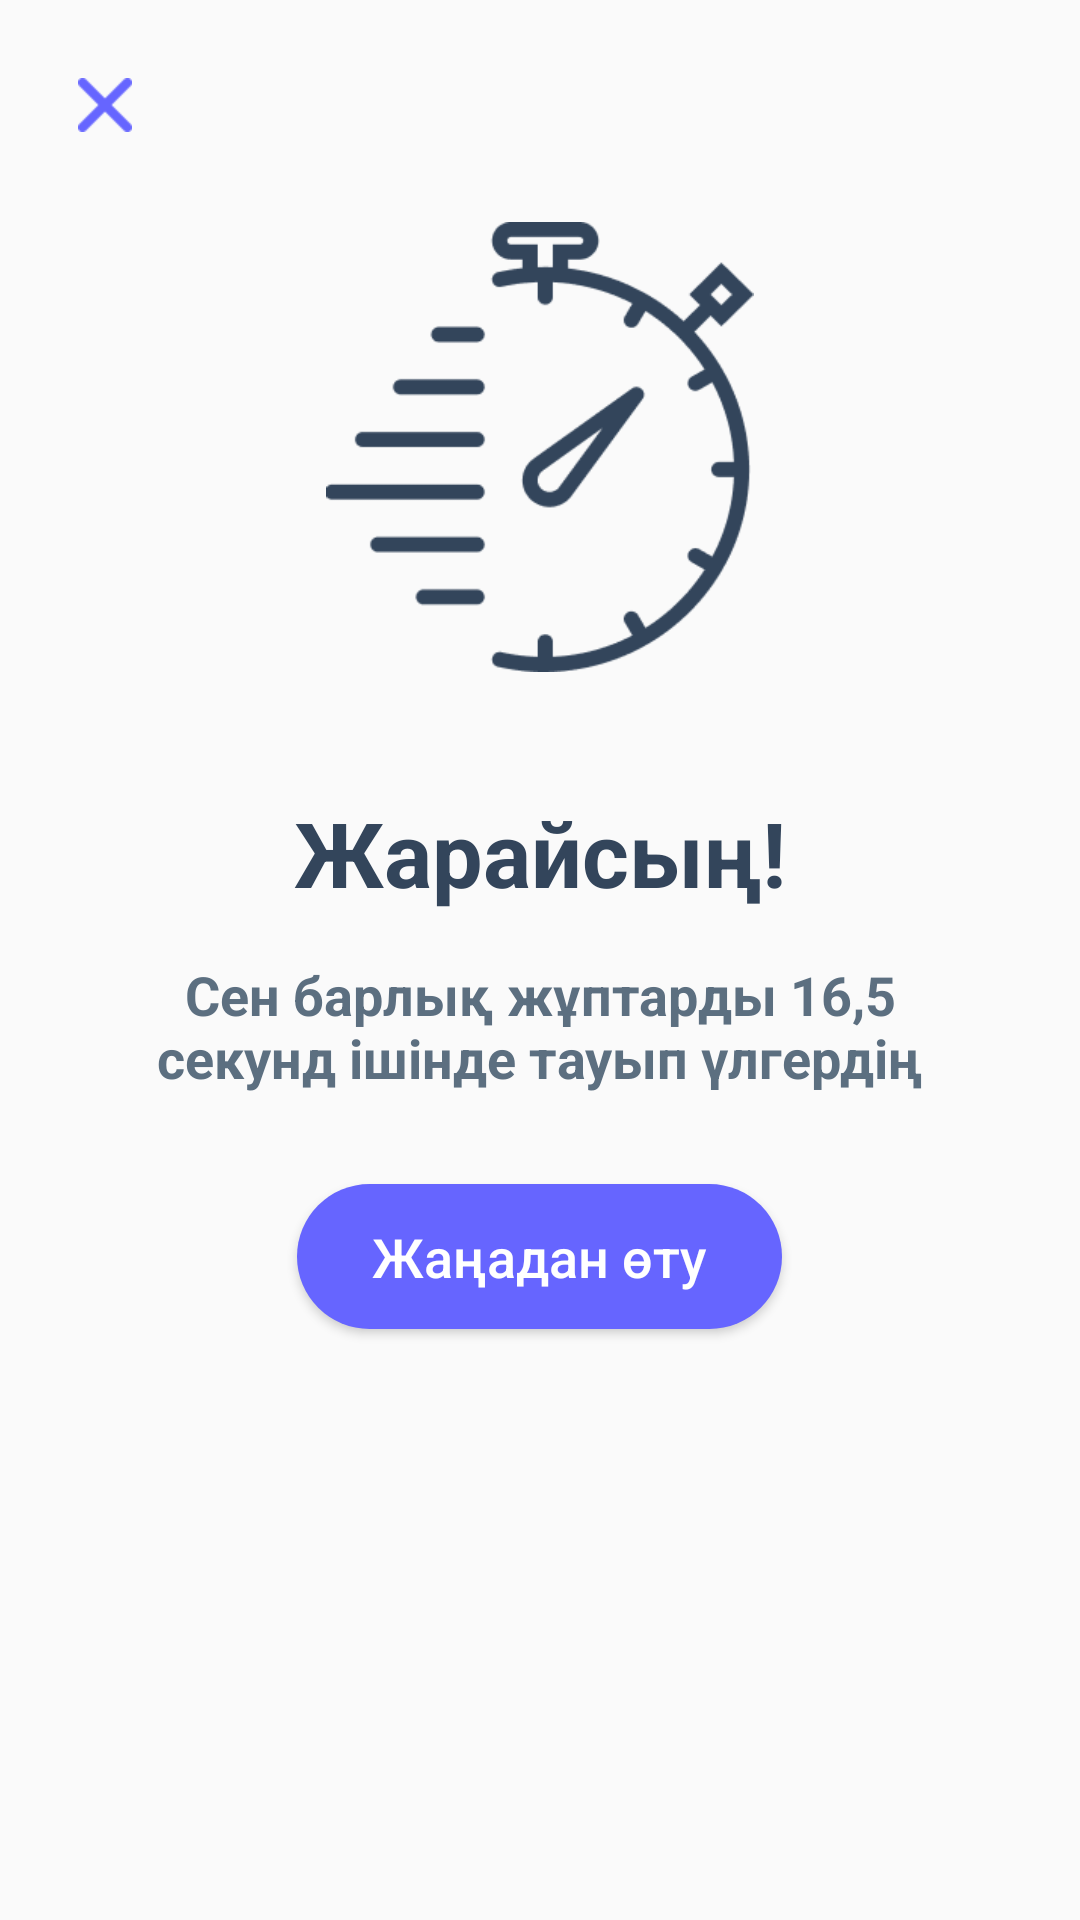

Icon bounding boxes for this 1080 x 1920 phone screenshot, format [left=x1, top=y1, right=x2, bottom=y2]:
close: [left=78, top=78, right=132, bottom=132]
